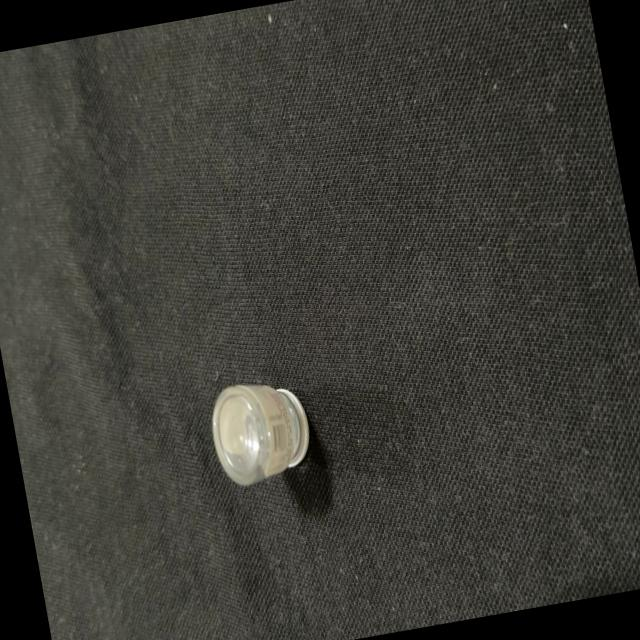fentanl_citrat: (206, 376, 314, 488)
